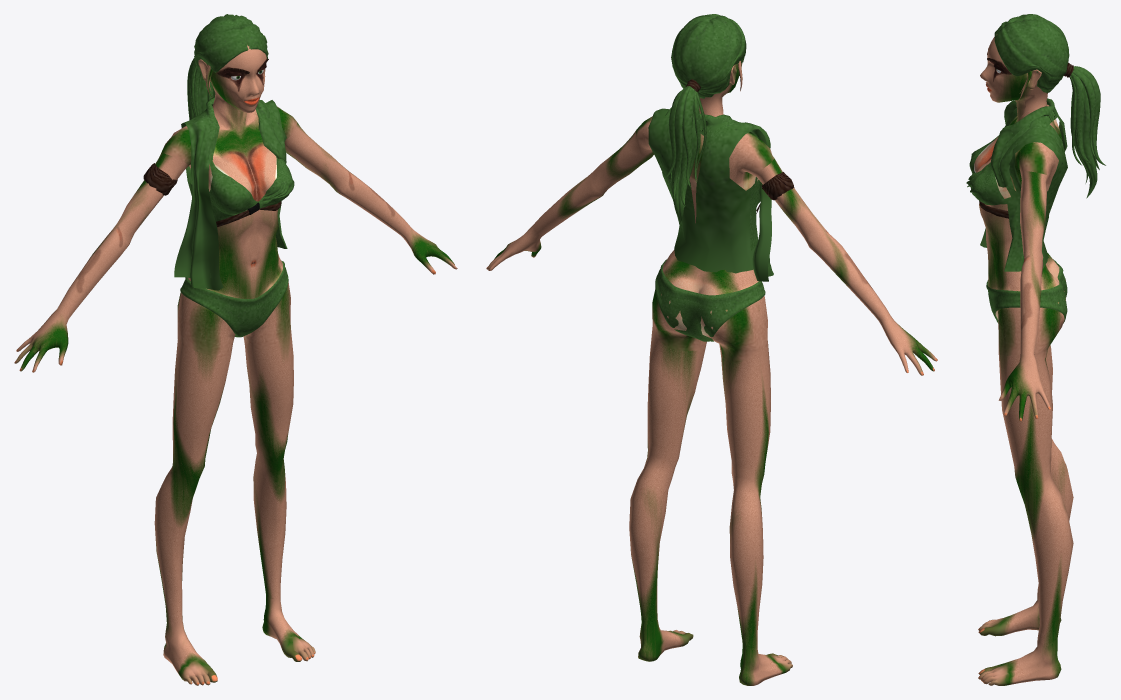
The model's file is elf.glb.
3 renders of one model, left to right at view 1: azimuth 30°, elevation 25°; view 2: azimuth 150°, elevation 25°; view 3: azimuth 270°, elevation 25°, orthographic.
Parts seen in each view (by area): view 1: Elf; view 2: Elf; view 3: Elf.
Part boxes in pixels (x1,y1,x2,y2): Elf: (14, 14, 457, 685); Elf: (486, 14, 937, 685); Elf: (966, 14, 1105, 685).
Size of the model in its own units: 1.16 by 1.62 by 0.3233.
Materials: 1 (1 with a texture image).
